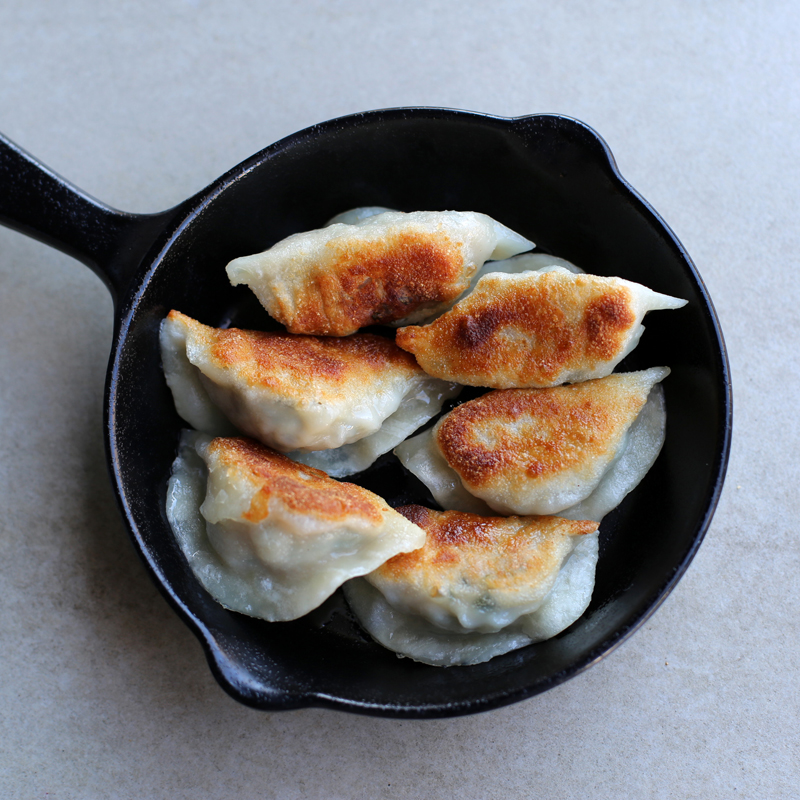fried_dumplings: (175, 320, 414, 485), (156, 453, 389, 610), (377, 511, 603, 648), (437, 372, 665, 504), (282, 224, 468, 321), (450, 273, 604, 373)
